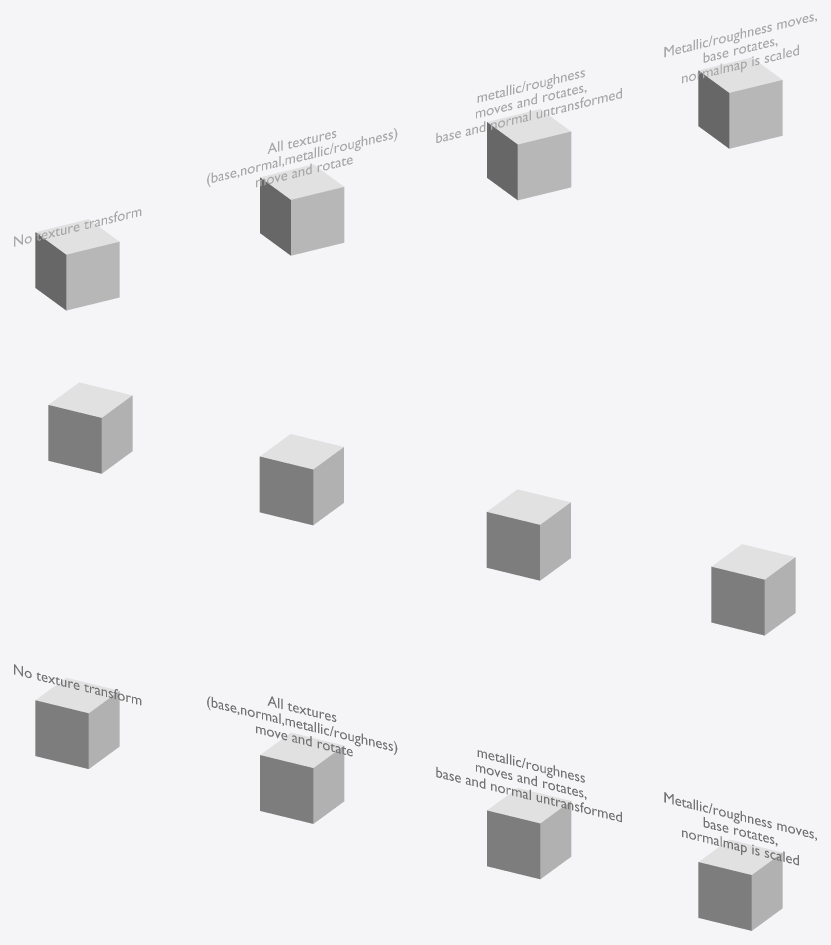
File: multiple_textures.glb
3 renders of one model, top to bottom at view 1: azimuth 30°, elevation 25°; view 2: azimuth 150°, elevation 25°; view 3: azimuth 330°, elevation 25°, orthographic.
Visible parts, largest first — view 1: Cube.001, Cube.002, Cube, Cube.003, Text.002, Text.001, Text.004; view 2: Cube.001, Cube, Cube.002, Cube.003; view 3: Cube.001, Cube.003, Cube.002, Cube, Text.002, Text.001, Text.004, Text.
Part boxes in pixels (x1,y1,x2,y2): Cube.001: (260,164,344,255); Cube.002: (487,109,571,200); Cube: (35,219,119,310); Cube.003: (698,57,782,148); Text.002: (436,70,621,142); Text.001: (207,128,397,187); Text.004: (664,14,816,83); Cube.001: (486,489,570,580); Cube: (711,544,795,635); Cube.002: (259,434,343,525); Cube.003: (48,382,132,473); Cube.001: (260,732,344,823); Cube.003: (698,839,782,930); Cube.002: (487,788,571,879); Cube: (35,677,119,768); Text.002: (436,750,621,822); Text.001: (207,696,397,756); Text.004: (664,792,816,865); Text: (14,664,141,705).
Bounding box in the file's own units: 30.08 × 3.68 × 2.
4 materials, 4 textured.
